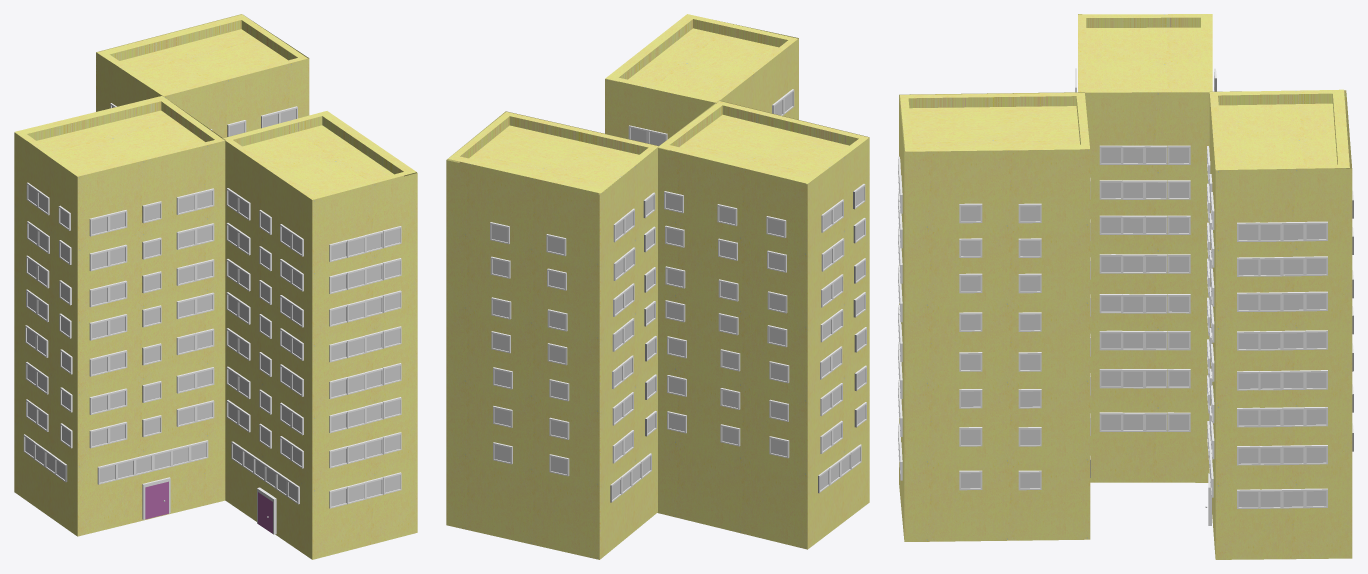
File: Building_7_VAL.fbx
3 views of the same model, side by side, from view 1: azimuth 30°, elevation 25°; view 2: azimuth 150°, elevation 25°; view 3: azimuth 270°, elevation 25° (orthographic). The views are drawn at different scales.
Visible parts, largest first — view 1: pCube2 (×3), doors, doors2; view 2: pCube2 (×3); view 3: pCube2 (×3).
Boxes of the visible parts, x1=… form: pCube2 (×3): x1=14, y1=14, x2=417, y2=559; doors: x1=142, y1=477, x2=170, y2=519; doors2: x1=257, y1=487, x2=276, y2=534; pCube2 (×3): x1=446, y1=14, x2=869, y2=559; pCube2 (×3): x1=899, y1=14, x2=1352, y2=559.
Bounding box in the file's own units: 16.29 × 18.82 × 19.9.
